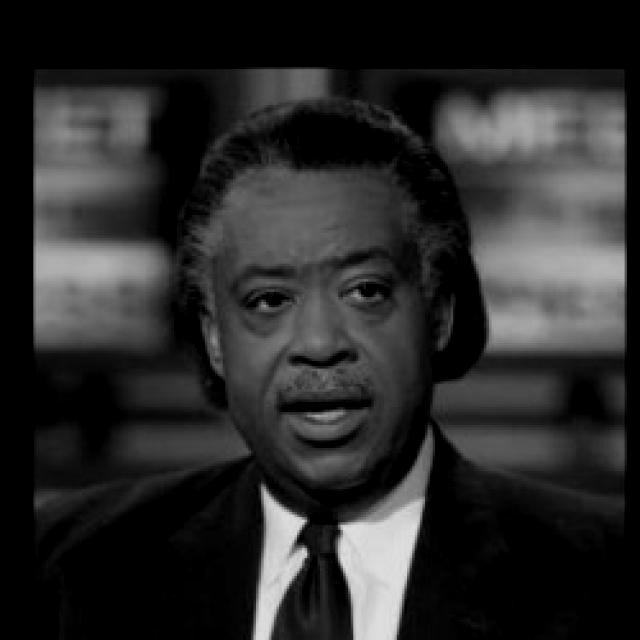real: (178, 126, 487, 494), (238, 273, 417, 325)
